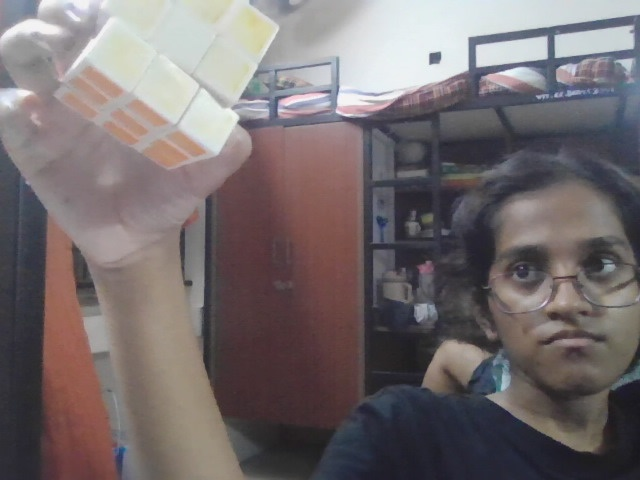rubiks_cube: (0, 0, 278, 154)
